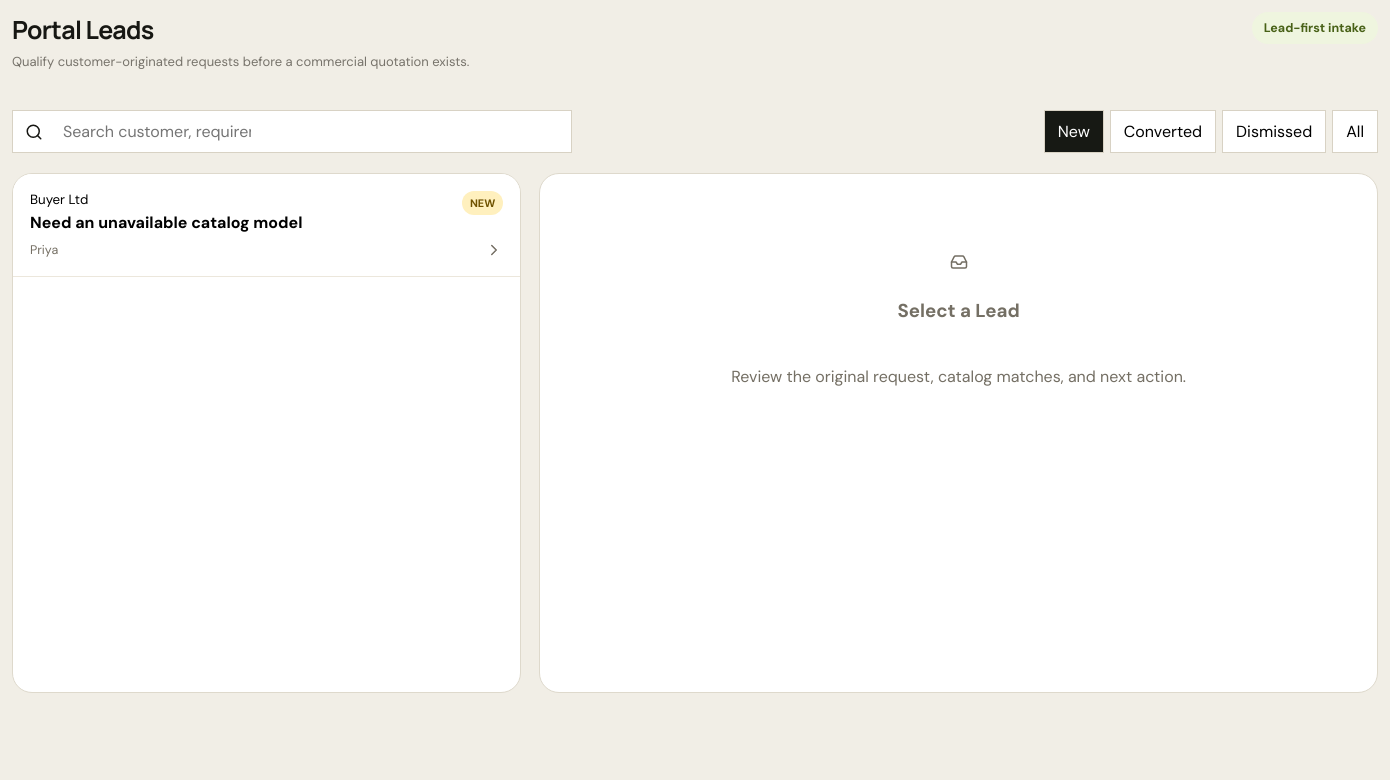
portal Lead inbox › shows unresolved catalog context and keeps conversion Rep-only
The image size is (1390, 780).
Click the button "Buyer Ltd Need an unavailable catalog model NEW Priya" at (267, 226), box [13,174,520,277]
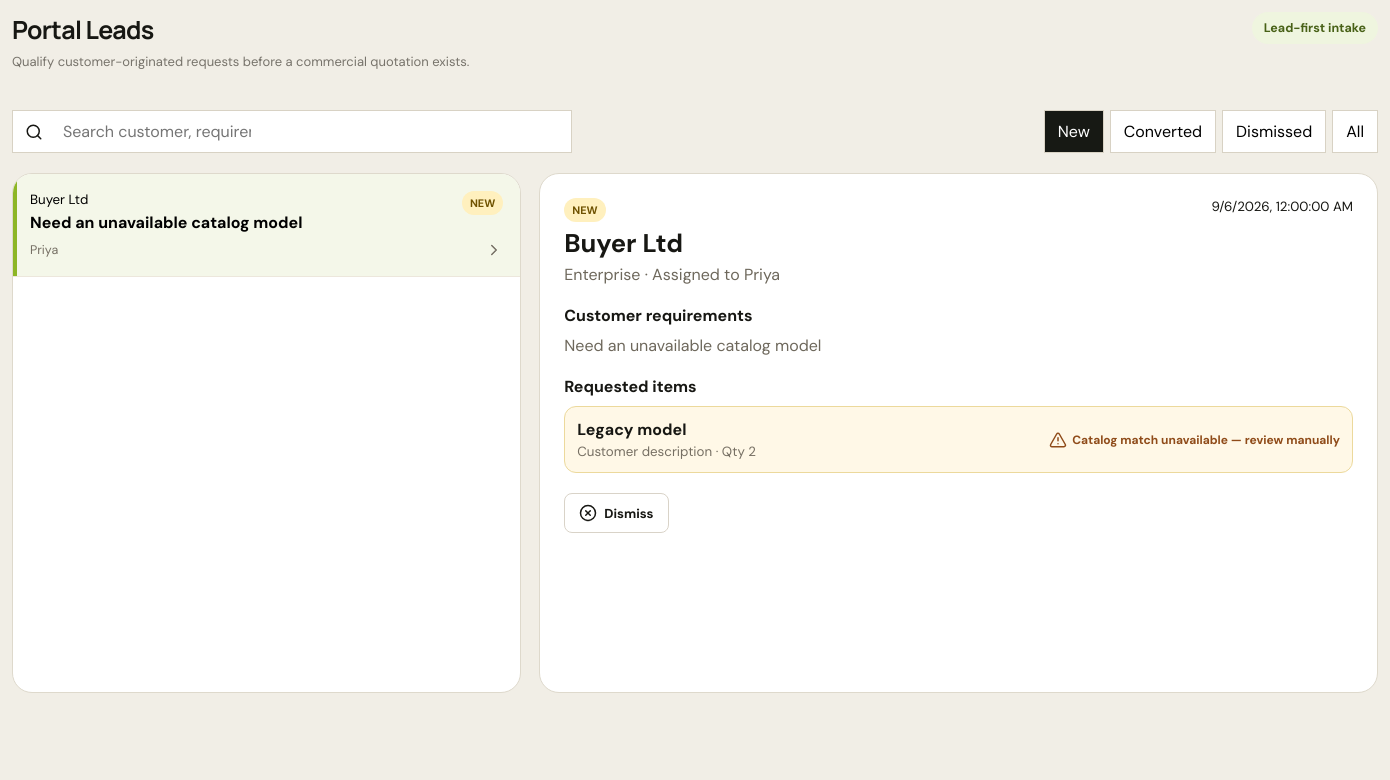
expect the text "Catalog match unavailable — review manually" is shown: met, box [1049,430,1340,448]
